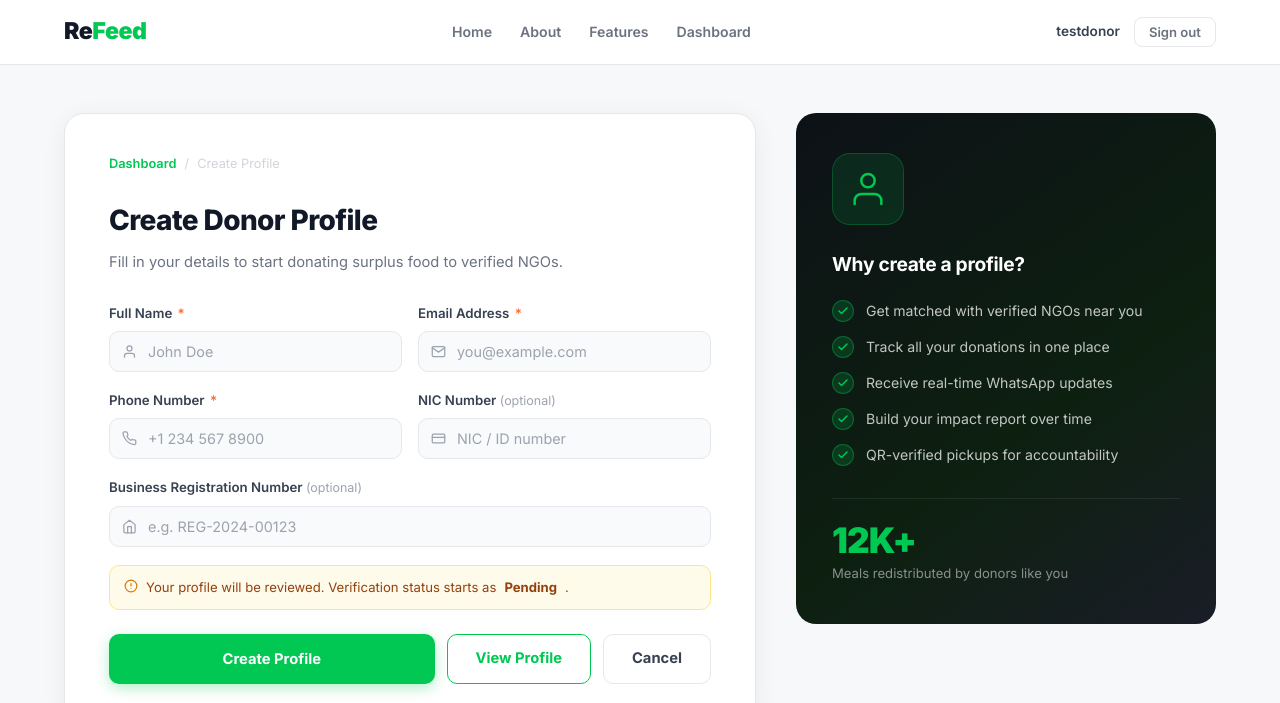
Donation Management Flow › shows validation error on empty profile submit
This screenshot has width=1280, height=703.
Step 1. Click the submit button → (272, 659), box [109,634,435,684]
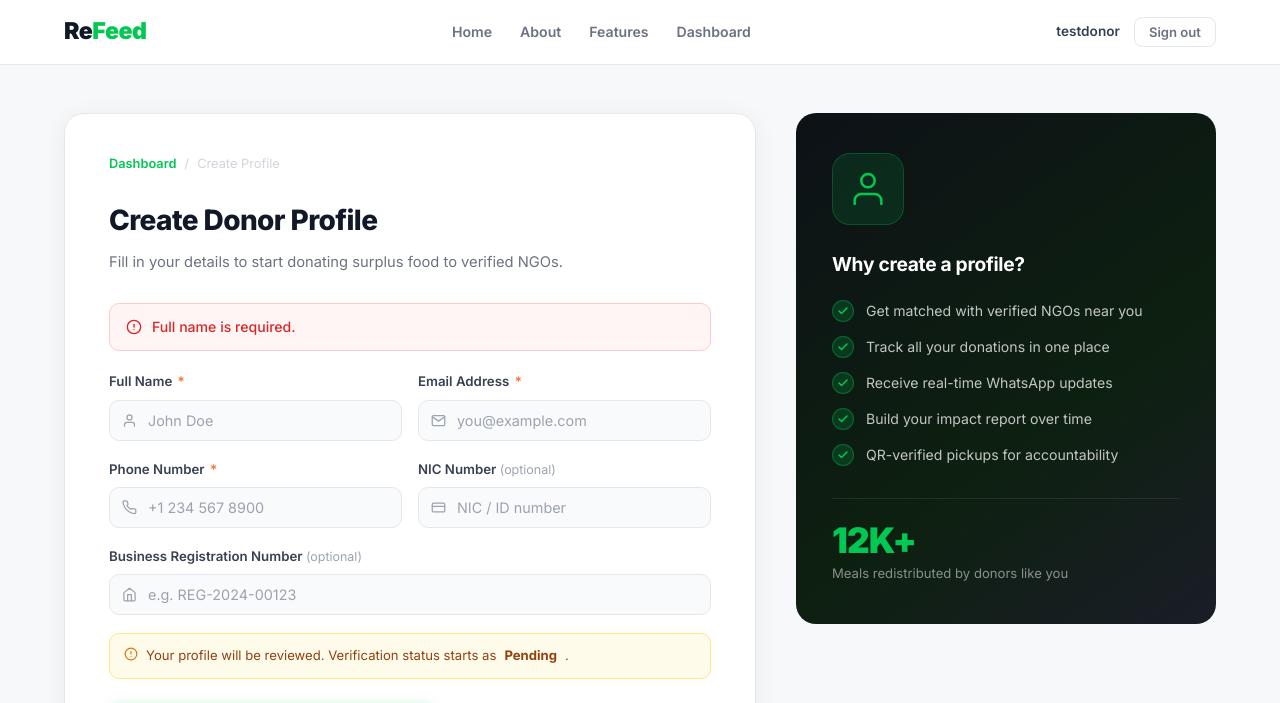
Expected: the text "required" is shown, [152,318,296,335]
